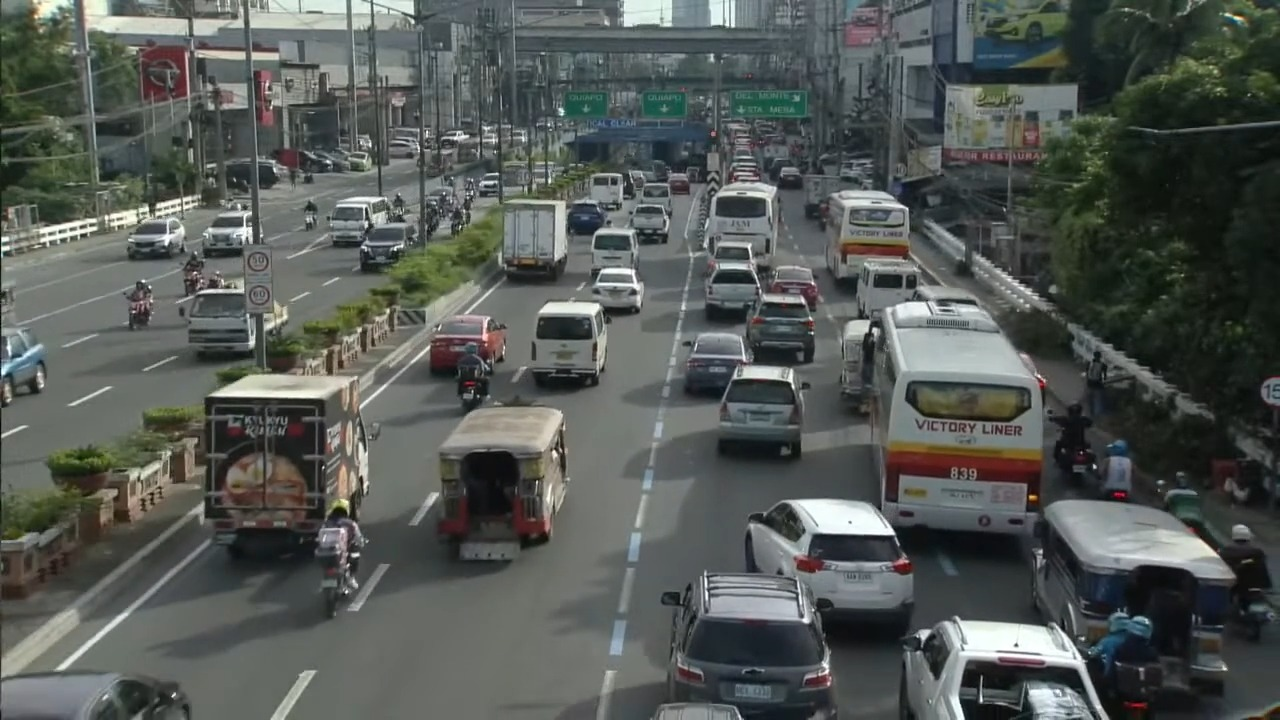bus: (870, 301, 1044, 534), (825, 190, 909, 282), (706, 182, 781, 271)
car: (662, 572, 837, 717), (744, 498, 913, 636), (898, 617, 1108, 719), (0, 670, 191, 719), (717, 364, 809, 459), (746, 293, 815, 363), (428, 314, 506, 373), (682, 332, 751, 393), (983, 0, 1067, 44), (0, 328, 46, 406), (704, 261, 760, 319), (359, 222, 415, 271), (202, 211, 260, 257), (126, 217, 185, 259), (591, 268, 644, 312), (768, 265, 819, 310), (704, 240, 754, 276), (651, 702, 742, 719), (912, 285, 980, 307), (568, 198, 607, 234), (1019, 352, 1046, 403), (298, 150, 334, 172), (312, 151, 349, 171), (226, 159, 253, 186), (427, 187, 458, 208), (388, 140, 419, 158), (777, 166, 802, 188), (477, 173, 500, 196), (839, 164, 865, 183), (667, 173, 690, 194), (347, 151, 371, 171), (440, 129, 468, 146), (730, 169, 759, 182), (733, 146, 753, 161), (641, 171, 658, 187)
motorcycle: (315, 528, 366, 618), (1107, 662, 1162, 719), (1230, 588, 1275, 641), (1060, 445, 1097, 484), (125, 294, 151, 329), (459, 379, 485, 412), (184, 270, 204, 296), (1101, 489, 1129, 502), (206, 275, 226, 288), (304, 212, 317, 230), (450, 219, 463, 236), (464, 189, 475, 204), (303, 171, 314, 183), (464, 208, 471, 226)
truck: (203, 375, 379, 557), (501, 198, 568, 280), (179, 287, 257, 356), (803, 174, 847, 218), (630, 204, 669, 243)
